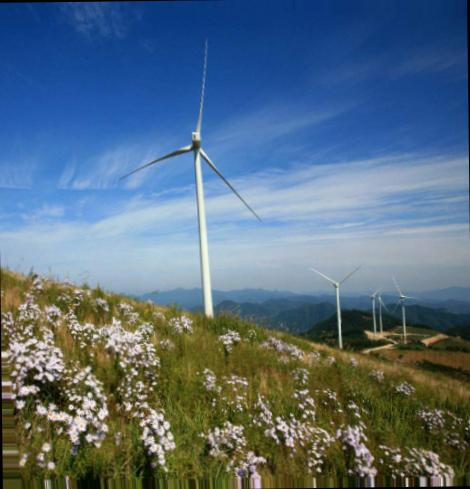wind turbine: (118, 37, 264, 321), (303, 264, 364, 356), (390, 275, 423, 345)
